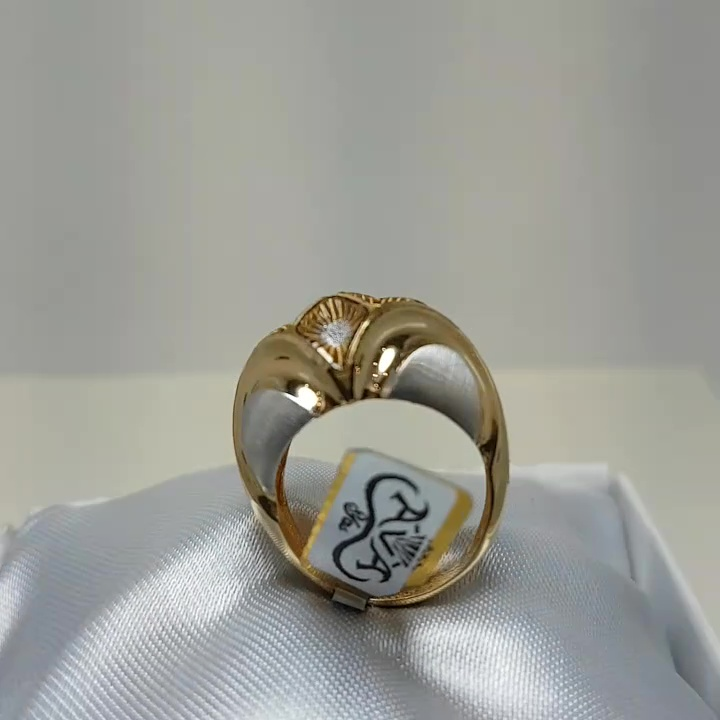Ring 2: (212, 271, 522, 637)
